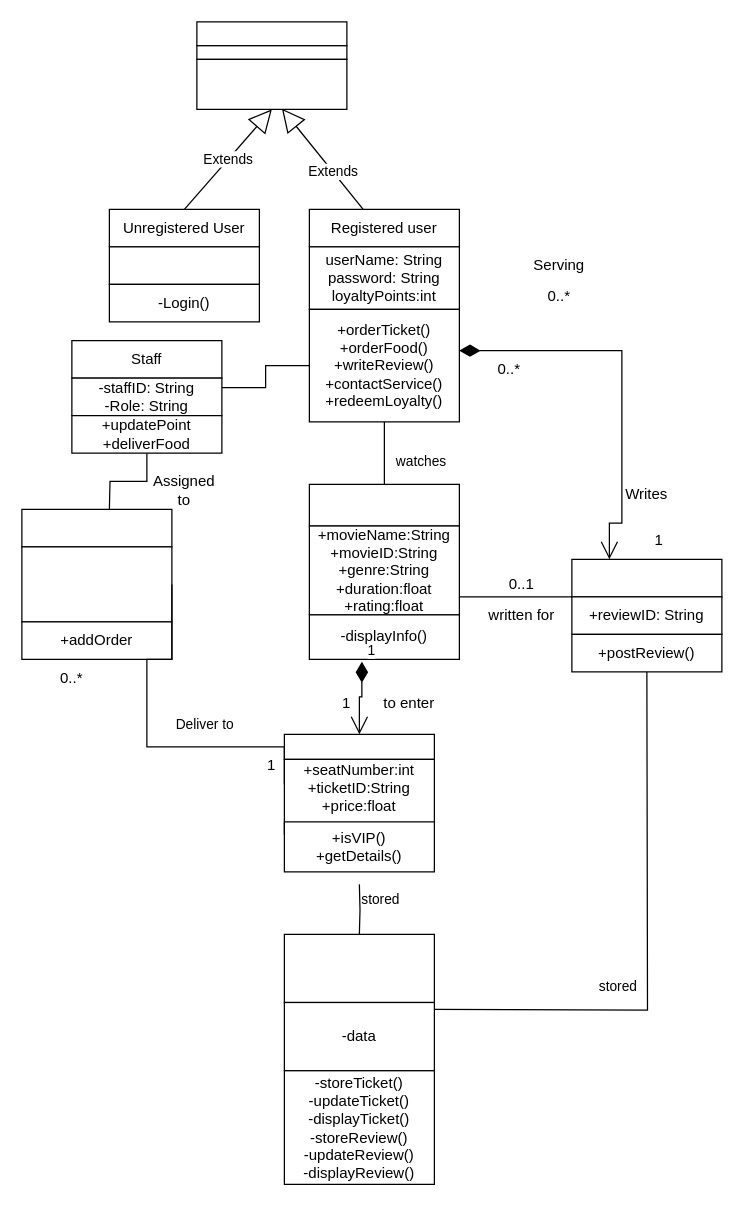
This 744x1206 diagram has some shape labels left out. Each missing label, with the centre of its shape:
"+browse() +viewMovie()" goes at point 271,83.
"+orderID:string +food:String +seatNumber:int +orderStatus:String" goes at point 96,584.
"Food Order" goes at point 96,527.
"movie" goes at point 383,504.
"Review" goes at point 646,577.
"systemDatabase" goes at point 358,967.
"Ticket" goes at point 358,746.
"User" goes at point 271,33.
